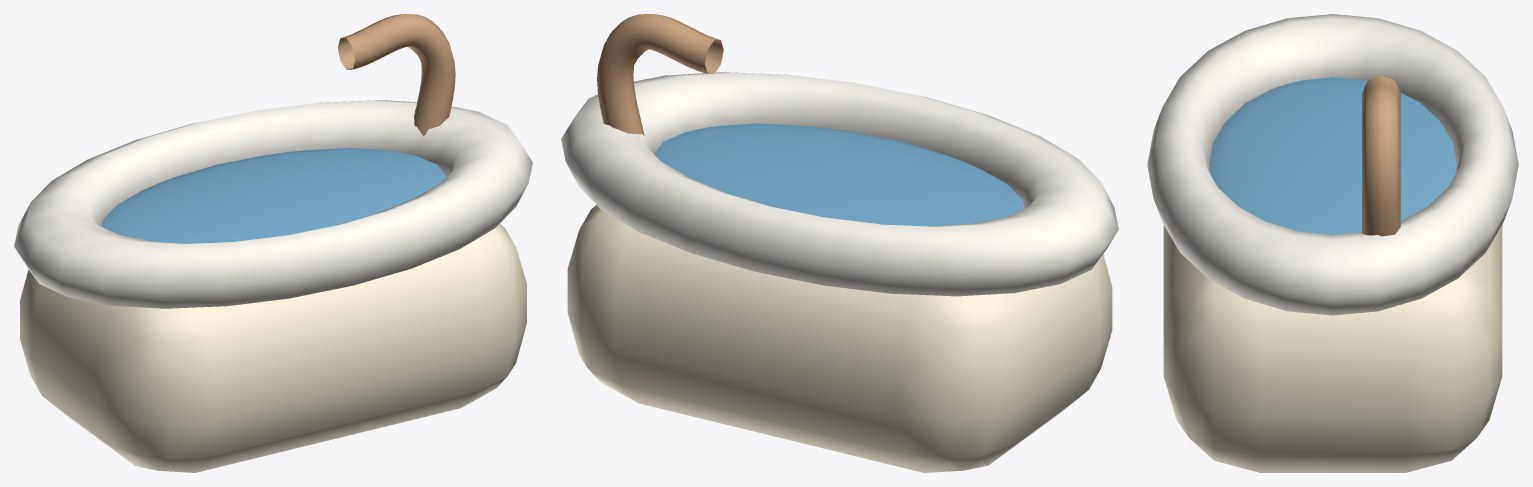
The model's file is word-bath.glb.
The picture shows the model from 3 angles, left to right: view 1: azimuth 30°, elevation 25°; view 2: azimuth 150°, elevation 25°; view 3: azimuth 270°, elevation 25°; orthographic projection. The views are drawn at different scales.
Visible parts, largest first — view 1: ceramic base, bath rim, bath water, tap; view 2: ceramic base, bath rim, bath water, tap; view 3: bath rim, ceramic base, bath water, tap.
Boxes of the visible parts, <box> form: ceramic base: <box>20,224,526,472</box>; bath rim: <box>14,100,532,308</box>; bath water: <box>101,148,446,243</box>; tap: <box>337,14,455,136</box>; ceramic base: <box>567,205,1112,472</box>; bath rim: <box>561,72,1118,296</box>; bath water: <box>654,123,1024,226</box>; tap: <box>597,14,723,135</box>; bath rim: <box>1147,14,1518,315</box>; ceramic base: <box>1163,225,1502,472</box>; bath water: <box>1209,77,1456,234</box>; tap: <box>1362,75,1400,236</box>.
Bounding box in the file's own units: 1.3 × 0.8645 × 0.768.
